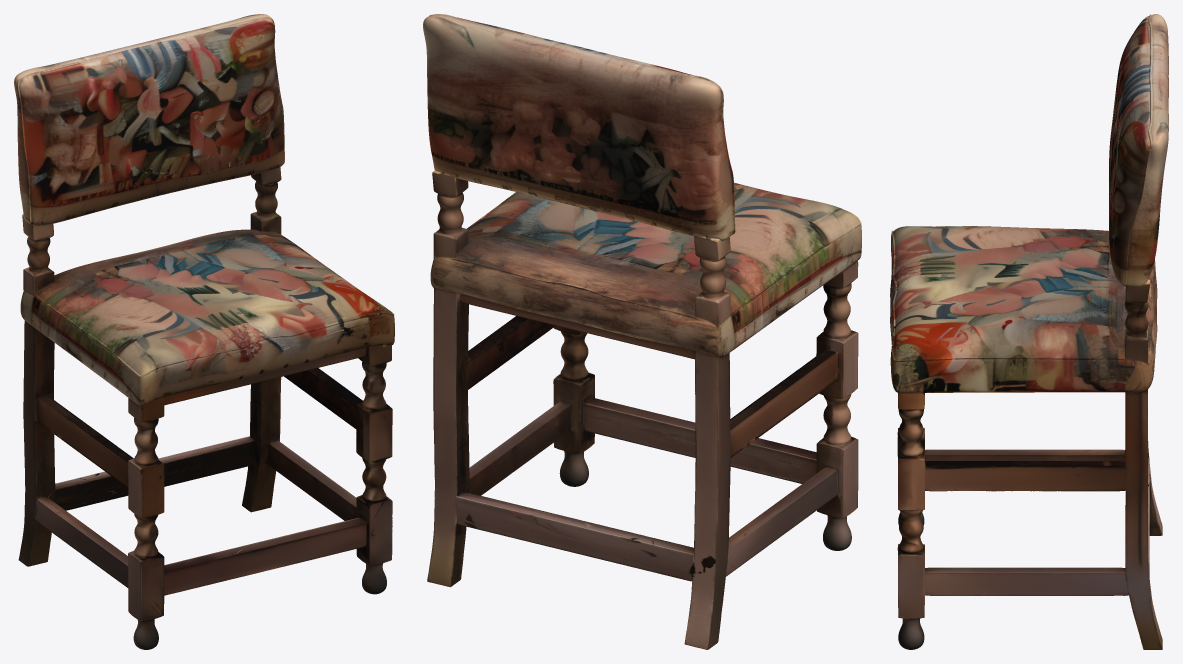
3 renders of one model, left to right at view 1: azimuth 30°, elevation 25°; view 2: azimuth 150°, elevation 25°; view 3: azimuth 270°, elevation 25°, orthographic. The views are drawn at different scales.
Visible parts, largest first — view 1: model; view 2: model; view 3: model.
Boxes of the visible parts, x1,y1,x2,y2 form: model: (14, 14, 394, 649); model: (423, 14, 861, 649); model: (890, 14, 1168, 649).
Bounding box in the file's own units: 0.5229 × 0.955 × 0.47.
1 material, 1 textured.
